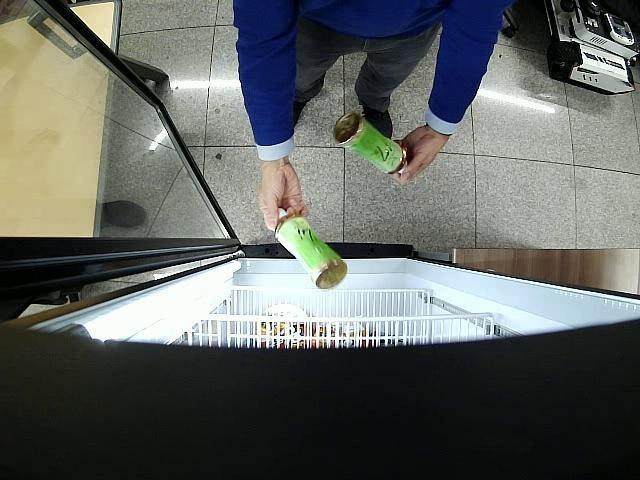19_17cha: (274, 207, 348, 290), (334, 111, 408, 174)
